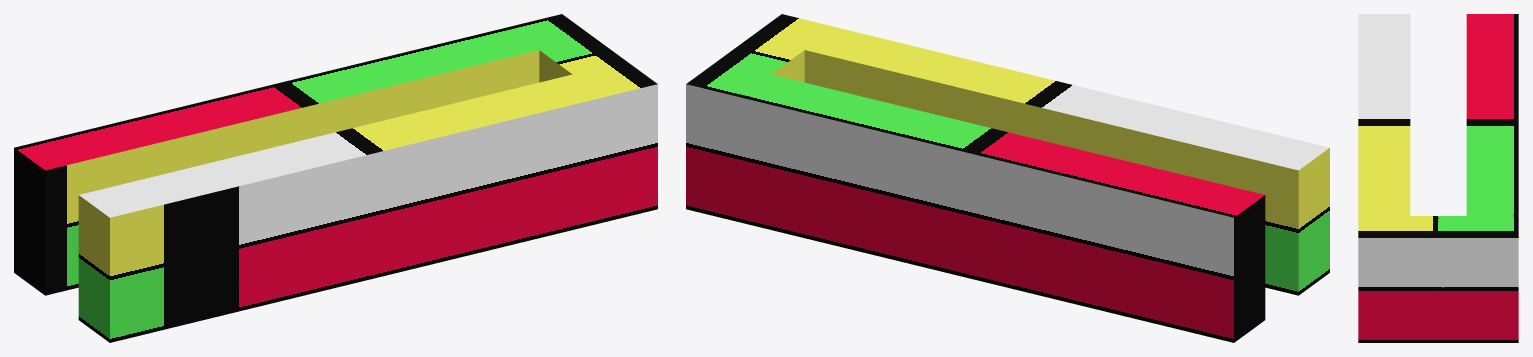
File: hairpin.FBX
The picture shows the model from 3 angles, left to right: view 1: azimuth 30°, elevation 25°; view 2: azimuth 150°, elevation 25°; view 3: azimuth 270°, elevation 25°; orthographic projection. The views are drawn at different scales.
Parts seen in each view (by area): view 1: C-Ext001; view 2: C-Ext001; view 3: C-Ext001.
Boxes of the visible parts, left/top/right/bottom form: C-Ext001: left=14, top=14, right=657, bottom=342; C-Ext001: left=686, top=14, right=1329, bottom=342; C-Ext001: left=1358, top=14, right=1518, bottom=342.
Size of the model in its own units: 19.67 by 4.29 by 5.96.
Materials: 1 (1 with a texture image).
